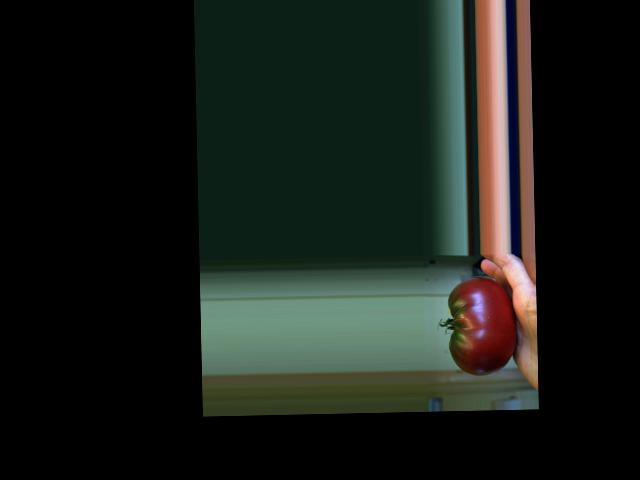tomato: (447, 276, 517, 376)
